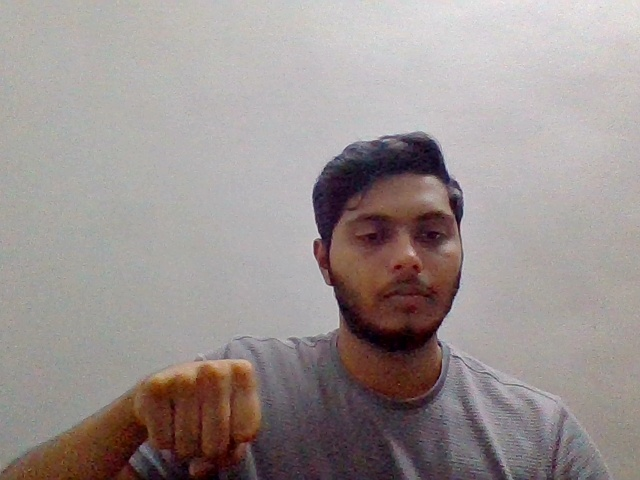Yes: (127, 350, 272, 476)
